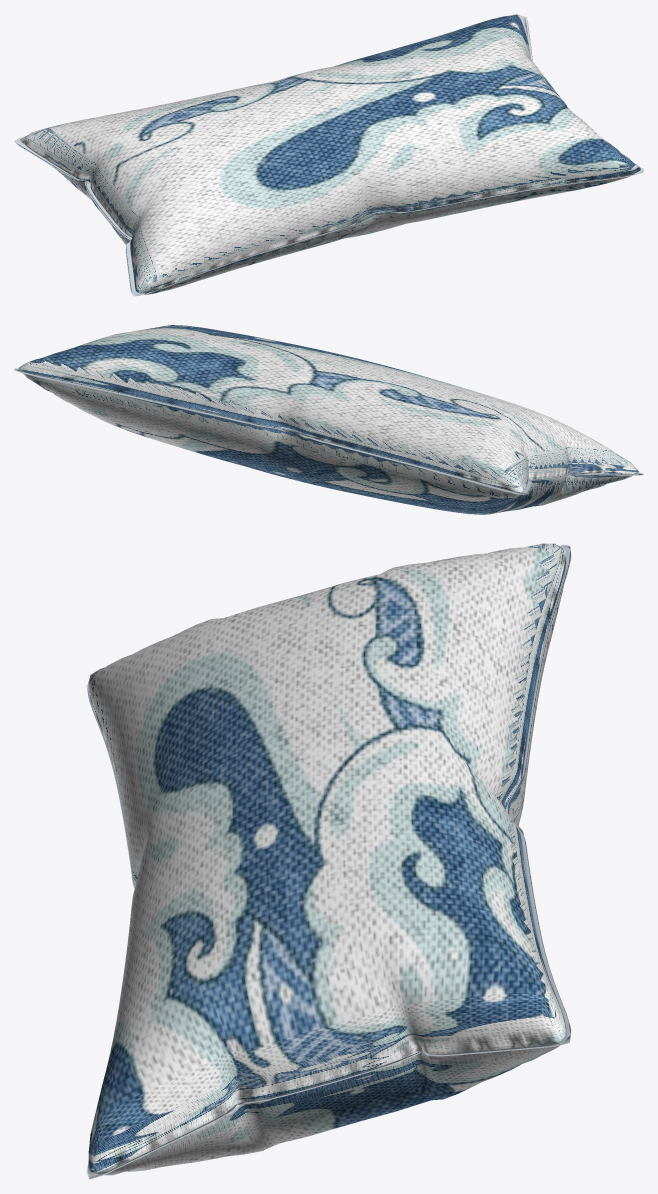
File: Almohada.fbx
3 views of the same model, one above another, from view 1: azimuth 30°, elevation 25°; view 2: azimuth 150°, elevation 25°; view 3: azimuth 270°, elevation 25° (orthographic). The views are drawn at different scales.
Parts seen in each view (by area): view 1: Cube.026; view 2: Cube.026; view 3: Cube.026.
Boxes of the visible parts, x1,y1,x2,y2 form: Cube.026: [14, 14, 643, 296]; Cube.026: [14, 325, 643, 514]; Cube.026: [86, 543, 571, 1179].
Bounding box in the file's own units: 824 × 194 × 338.
